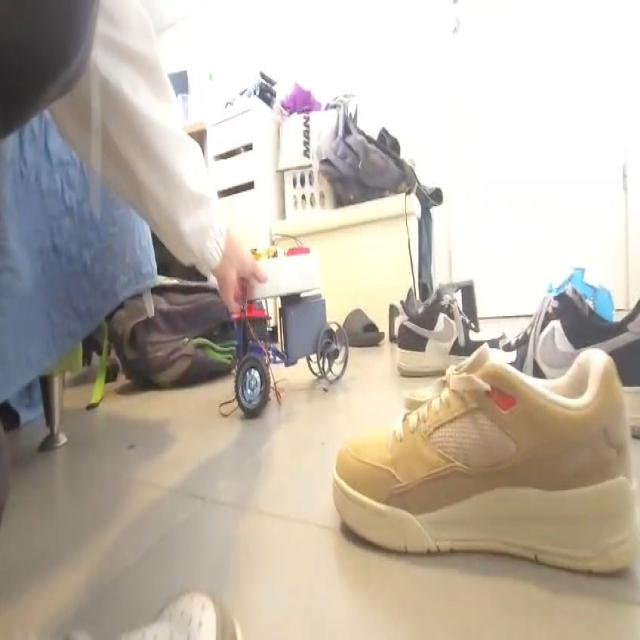Robot: (230, 244, 349, 418)
